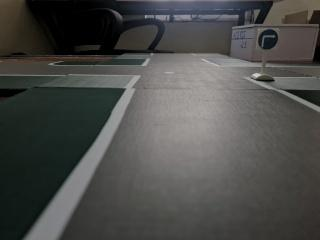right: (252, 27, 284, 52)
